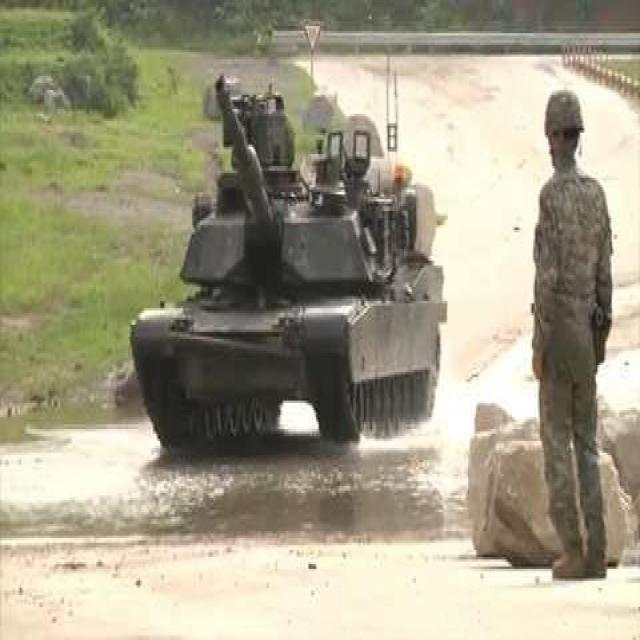MIL_MBT: (131, 72, 447, 442)
